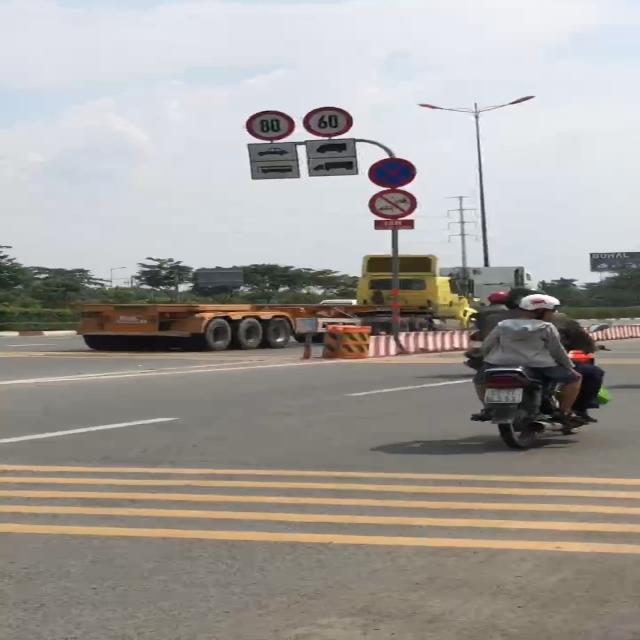Bien bao cam dung xe va do xe: (366, 155, 421, 191)
Bien bao toc do toi da cho phep: (247, 107, 298, 142), (301, 106, 355, 137)
